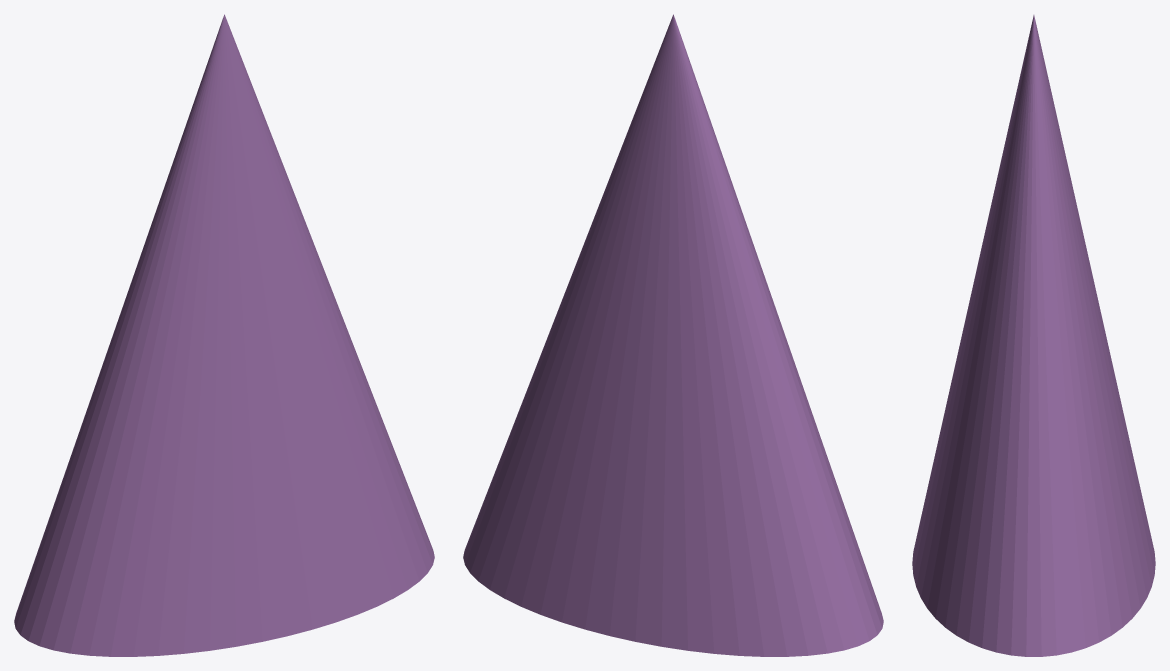
3 views of the same model, side by side, from view 1: azimuth 30°, elevation 25°; view 2: azimuth 150°, elevation 25°; view 3: azimuth 270°, elevation 25° (orthographic). The views are drawn at different scales.
Parts seen in each view (by area): view 1: Mesh_Mesh_head_geo.001_lambert2SG.001; view 2: Mesh_Mesh_head_geo.001_lambert2SG.001; view 3: Mesh_Mesh_head_geo.001_lambert2SG.001.
Boxes of the visible parts, x1,y1,x2,y2 form: Mesh_Mesh_head_geo.001_lambert2SG.001: (14,14,434,656); Mesh_Mesh_head_geo.001_lambert2SG.001: (463,14,883,656); Mesh_Mesh_head_geo.001_lambert2SG.001: (912,15,1155,656).
Size of the model in its own units: 0.0483 by 0.0664 by 0.0266.
